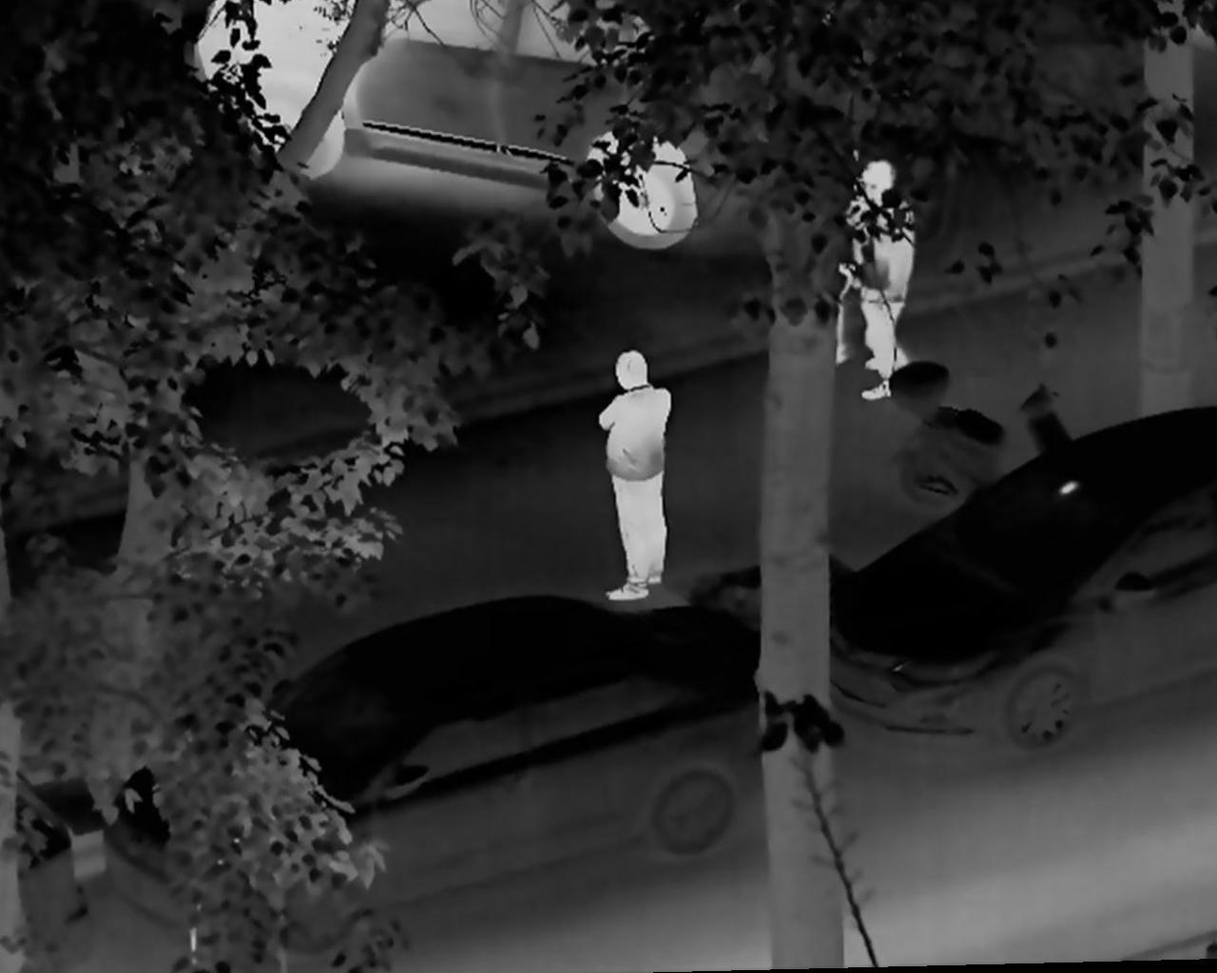person: (587, 344, 687, 601), (852, 158, 926, 406), (821, 147, 854, 372)
